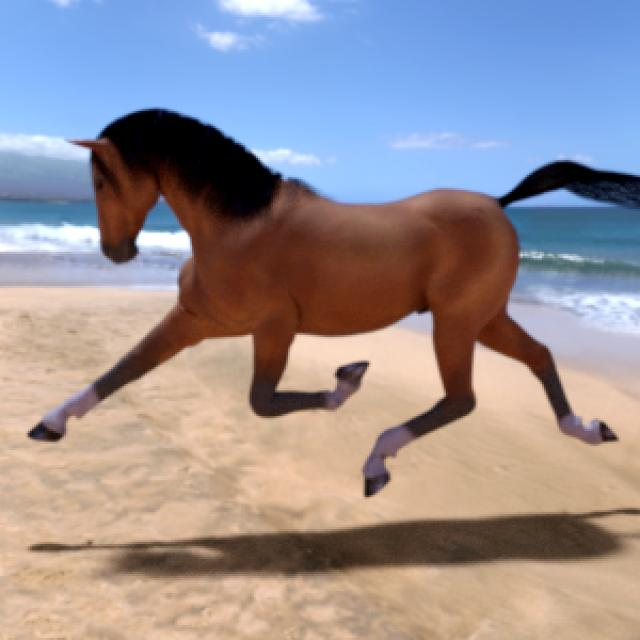horse: (30, 111, 640, 494)
